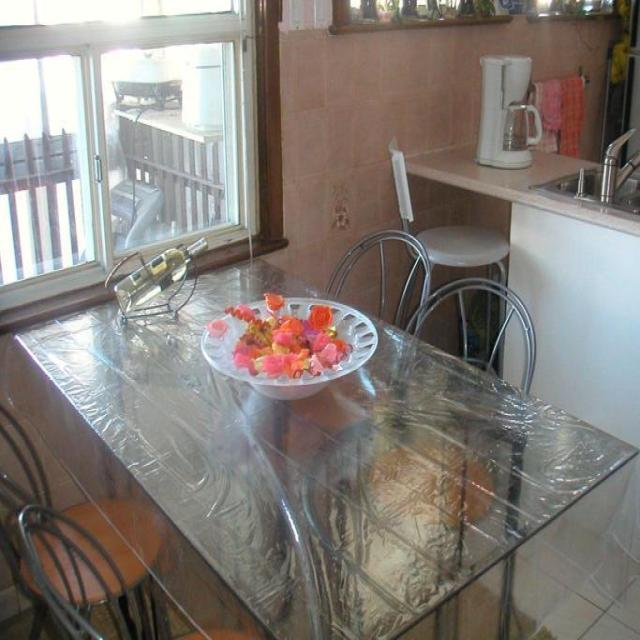curtains: (0, 127, 89, 285), (528, 72, 584, 158)
faucet: (599, 126, 639, 205)
plants: (213, 291, 351, 380)
table: (1, 255, 638, 639)
window: (0, 0, 259, 322)
